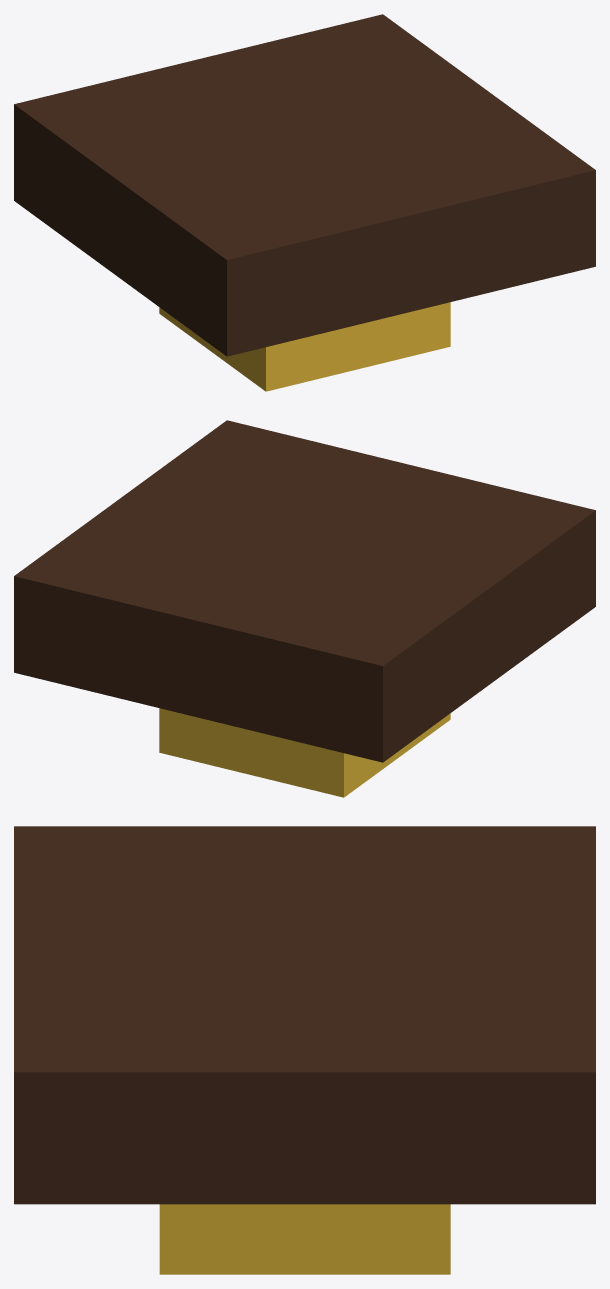
Rendered from badge.glb.
3 renders of one model, top to bottom at view 1: azimuth 30°, elevation 25°; view 2: azimuth 150°, elevation 25°; view 3: azimuth 270°, elevation 25°, orthographic. The views are drawn at different scales.
Visible parts, largest first — view 1: badge; view 2: badge; view 3: badge.
Part boxes in pixels (x1,y1,x2,y2): badge: [14, 14, 595, 391]; badge: [14, 420, 595, 797]; badge: [14, 826, 595, 1274].
Size of the model in its own units: 0.2 by 0.1 by 0.2.
1 material, 1 textured.
